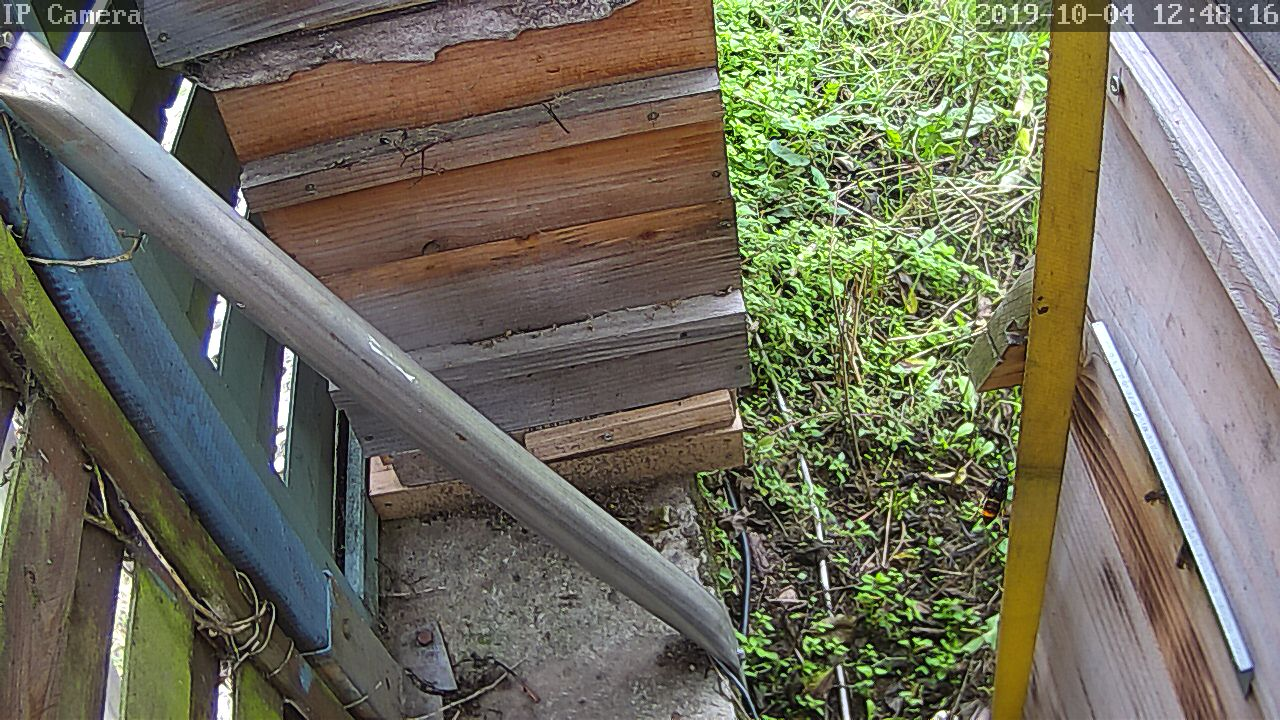bee: (1165, 536, 1203, 575), (1143, 475, 1170, 507)
hornet: (976, 462, 1015, 524)
